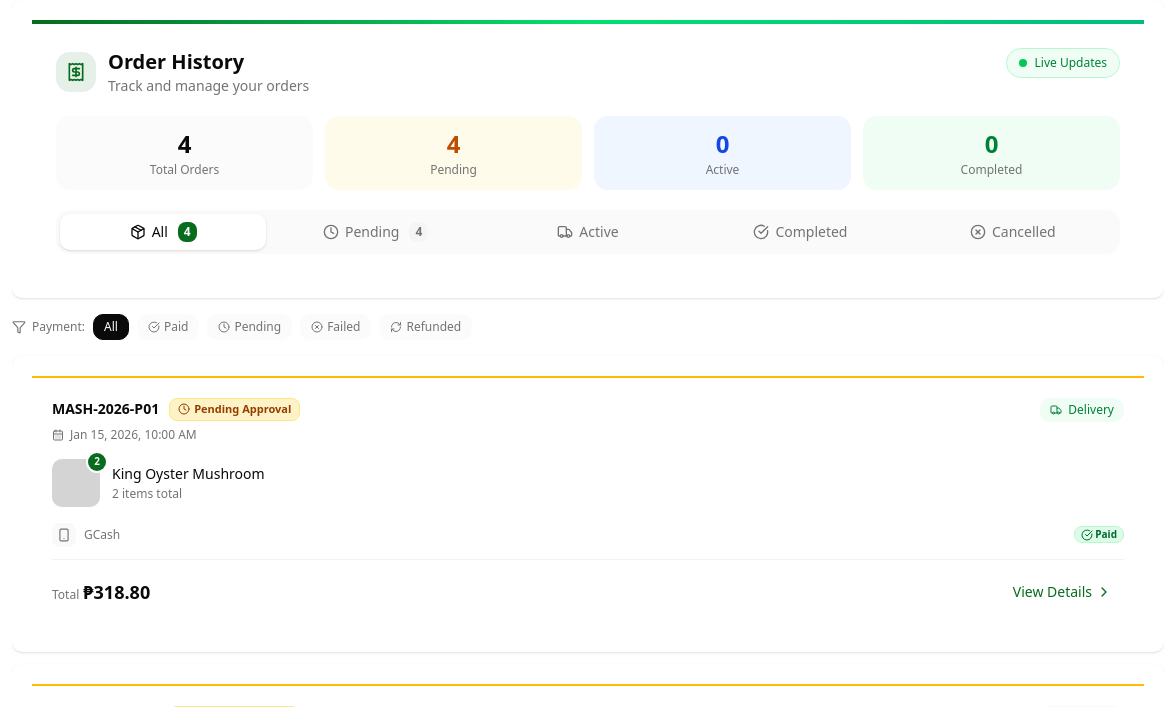
PAY-016: Order History - Payment Status Display › AC6: Payment status filter in order history › should filter to show only pending orders
Click the button with test id "payment-filter-pending": coordinates (250, 327) left=207, top=314, right=292, bottom=340
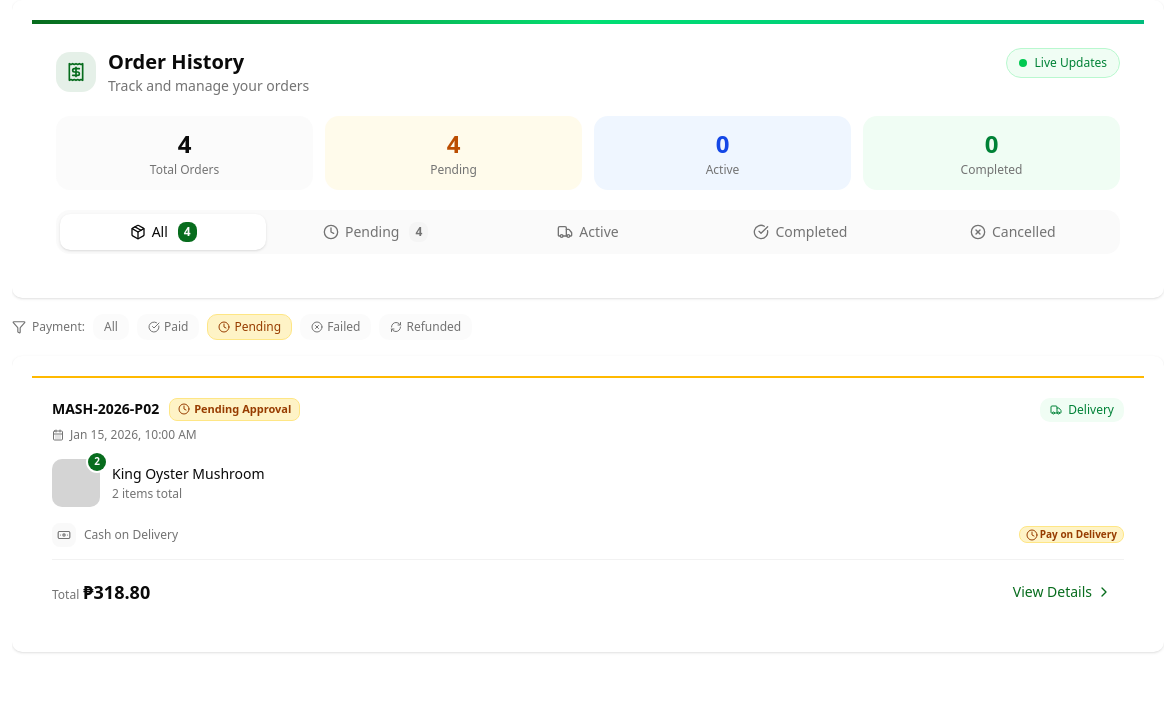
Expected: the text "MASH-2026-P02" is shown, left=52, top=399, right=159, bottom=419
Expected: the text "MASH-2026-P01" is gone
